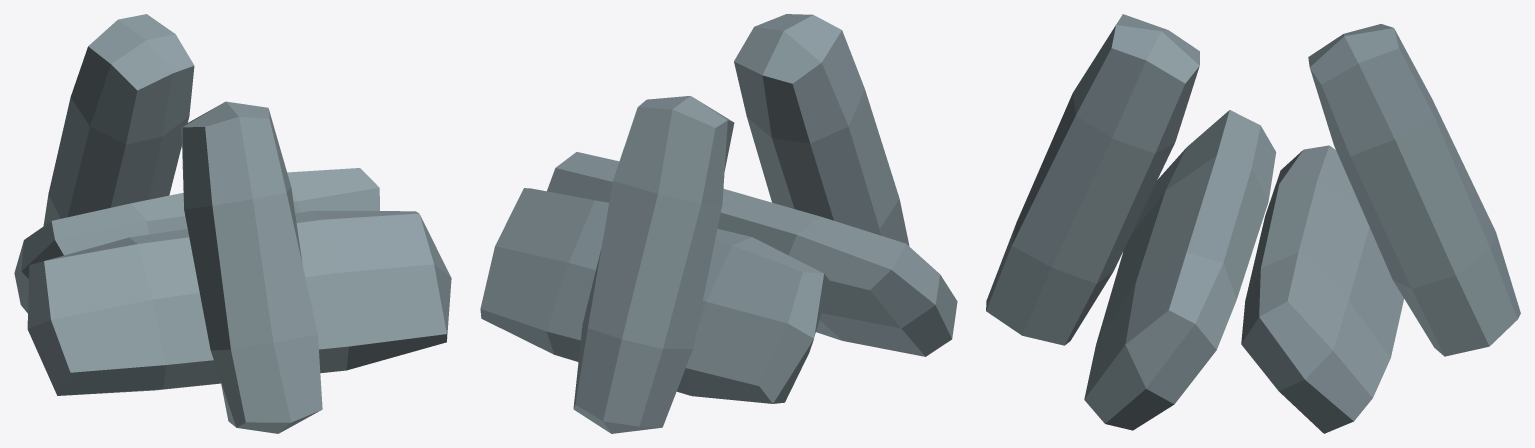
File: Stonehenge.obj
3 views of the same model, side by side, from view 1: azimuth 30°, elevation 25°; view 2: azimuth 150°, elevation 25°; view 3: azimuth 270°, elevation 25° (orthographic). The views are drawn at different scales.
Visible parts, largest first — view 1: Cube.007_Cube.001, Cube.018_Cube.001, Cube.015_Cube.001, Cube.014_Cube.001; view 2: Cube.015_Cube.001, Cube.014_Cube.001, Cube.018_Cube.001, Cube.007_Cube.001; view 3: Cube.015_Cube.001, Cube.018_Cube.001, Cube.007_Cube.001, Cube.014_Cube.001.
Part boxes in pixels (bbox=[...]): Cube.007_Cube.001: bbox=[27, 211, 451, 395]; Cube.018_Cube.001: bbox=[181, 101, 322, 433]; Cube.015_Cube.001: bbox=[43, 14, 194, 225]; Cube.014_Cube.001: bbox=[14, 168, 379, 313]; Cube.015_Cube.001: bbox=[573, 96, 734, 433]; Cube.014_Cube.001: bbox=[480, 188, 831, 403]; Cube.018_Cube.001: bbox=[734, 14, 909, 246]; Cube.007_Cube.001: bbox=[547, 152, 957, 356]; Cube.015_Cube.001: bbox=[1308, 24, 1520, 356]; Cube.018_Cube.001: bbox=[986, 14, 1199, 345]; Cube.007_Cube.001: bbox=[1084, 110, 1276, 430]; Cube.014_Cube.001: bbox=[1241, 145, 1403, 433].
Size of the model in its own units: 60.89 by 43.2 by 66.88.
Materials: 1 (1 with a texture image).
